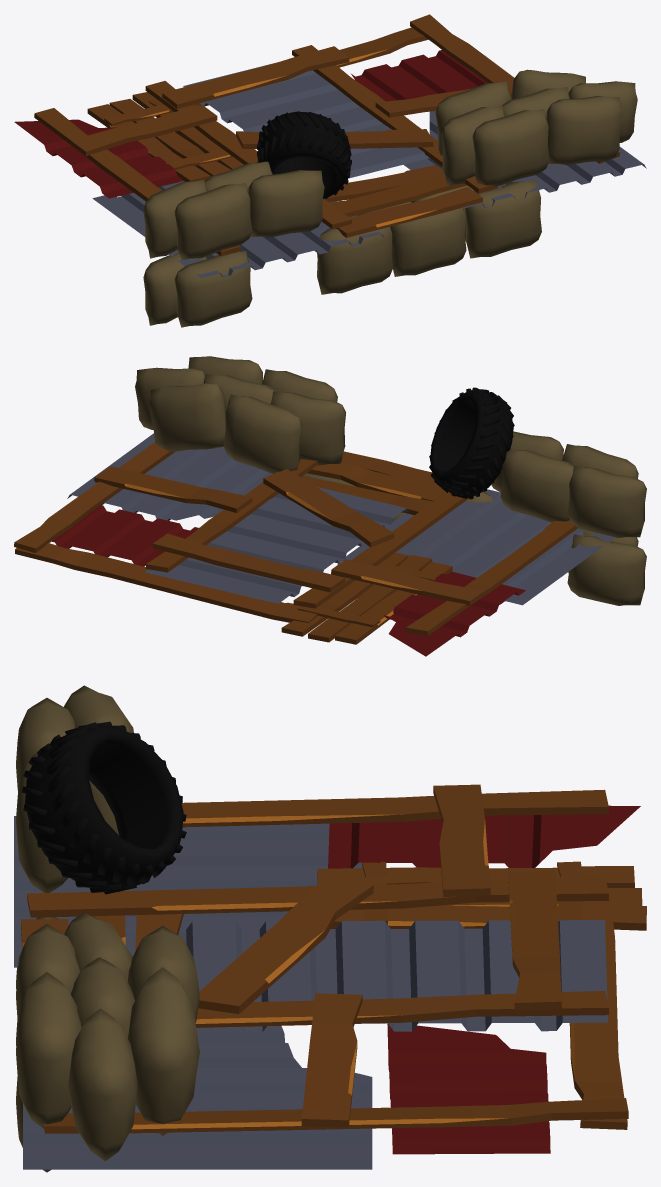
3 views of the same model, one above another, from view 1: azimuth 30°, elevation 25°; view 2: azimuth 150°, elevation 25°; view 3: azimuth 270°, elevation 25° (orthographic). The views are drawn at different scales.
Parts seen in each view (by area): view 1: Barrier_Trash.027_Cube.162; view 2: Barrier_Trash.027_Cube.162; view 3: Barrier_Trash.027_Cube.162.
Boxes of the visible parts, x1,y1,x2,y2 form: Barrier_Trash.027_Cube.162: (14, 14, 646, 327); Barrier_Trash.027_Cube.162: (14, 356, 646, 656); Barrier_Trash.027_Cube.162: (14, 685, 646, 1172).
Size of the model in its own units: 741 by 267 by 512.
